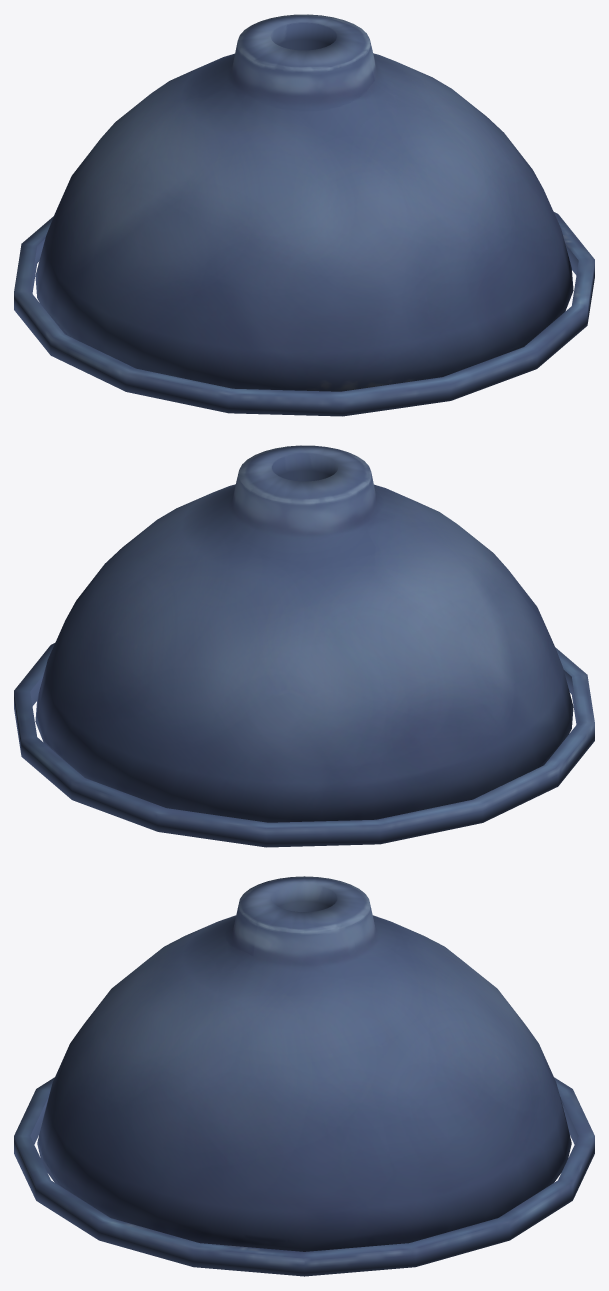
The model's file is SiloTop.fbx.
3 views of the same model, one above another, from view 1: azimuth 30°, elevation 25°; view 2: azimuth 150°, elevation 25°; view 3: azimuth 270°, elevation 25° (orthographic).
Parts seen in each view (by area): view 1: SiloTop; view 2: SiloTop; view 3: SiloTop.
Boxes of the visible parts, x1,y1,x2,y2 form: SiloTop: (14,14,594,416); SiloTop: (14,445,594,847); SiloTop: (14,876,594,1276).
Bounding box in the file's own units: 1579 × 765 × 1579.
